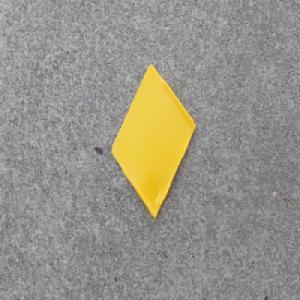PlasticPart: (110, 63, 197, 220)
